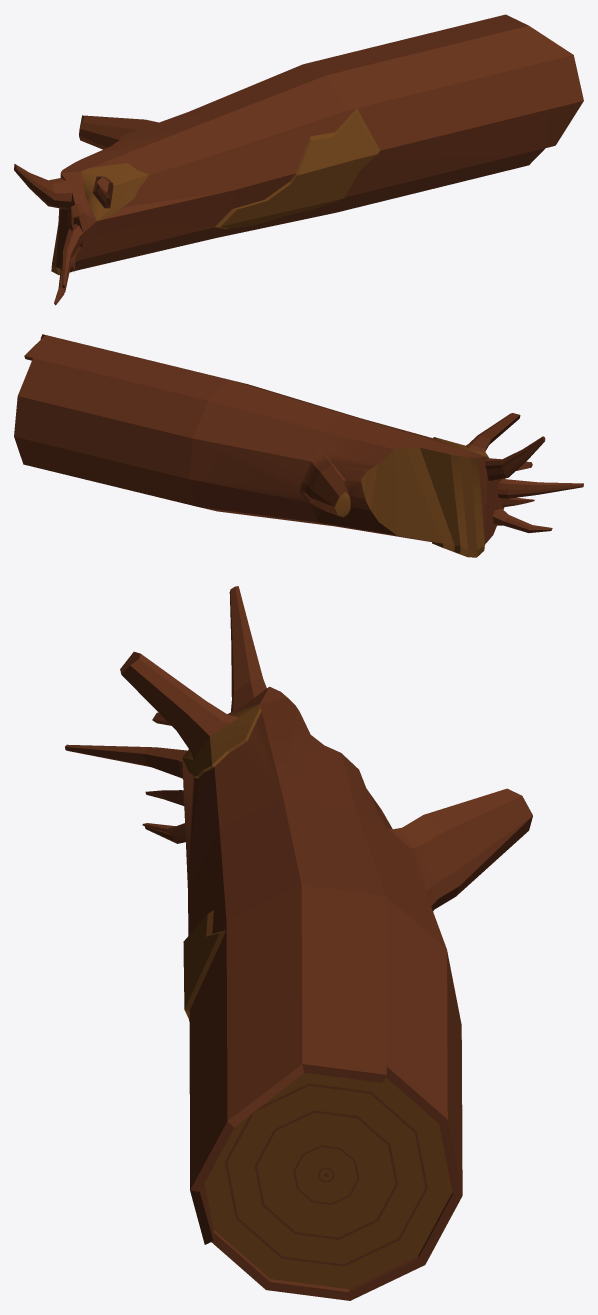
Rendered from Log.fbx.
The picture shows the model from 3 angles, top to bottom: view 1: azimuth 30°, elevation 25°; view 2: azimuth 150°, elevation 25°; view 3: azimuth 270°, elevation 25°; orthographic projection. The views are drawn at different scales.
Parts seen in each view (by area): view 1: polySurface72; view 2: polySurface72; view 3: polySurface72.
Part boxes in pixels (bbox=[...]): polySurface72: bbox=[14, 14, 583, 305]; polySurface72: bbox=[14, 334, 583, 557]; polySurface72: bbox=[65, 586, 532, 1300].
Bounding box in the file's own units: 174 × 42.03 × 70.17.
